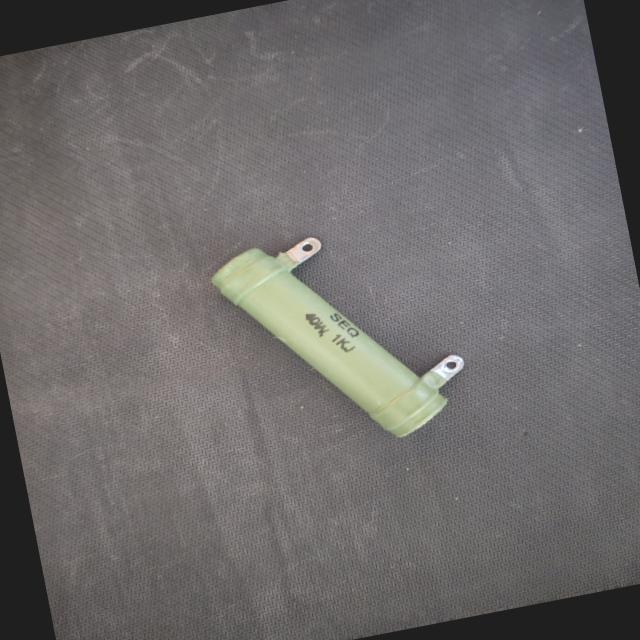resistor: (192, 197, 498, 478)
